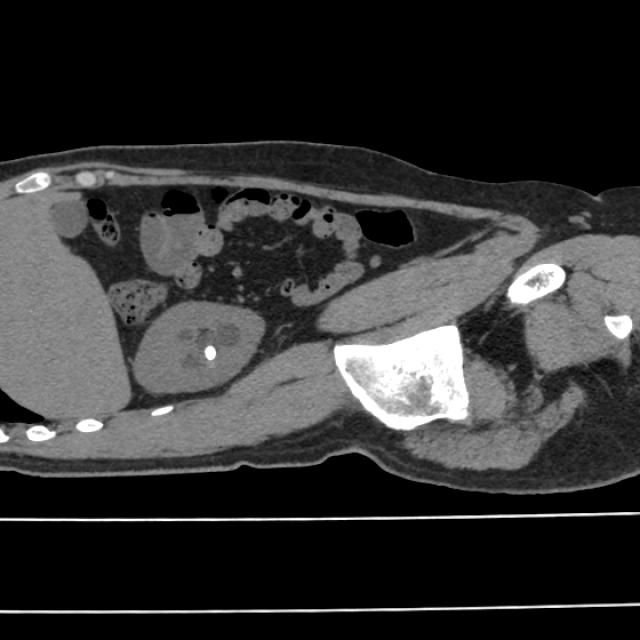kidney: (126, 298, 272, 398)
stone: (200, 337, 224, 366)
